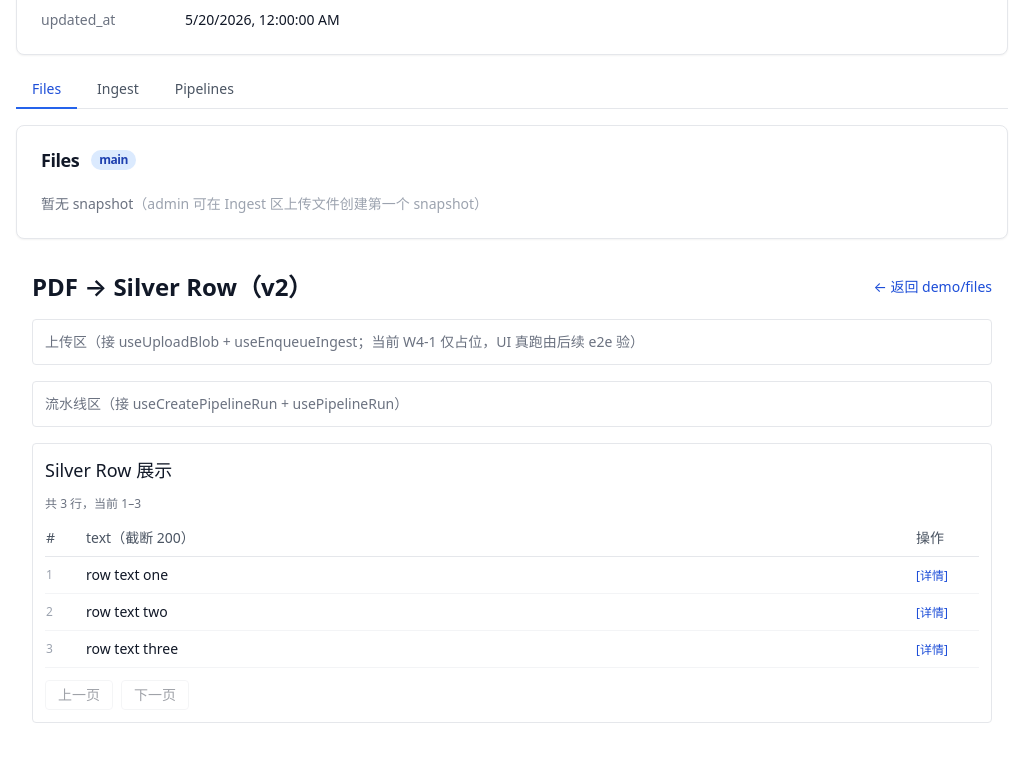
/repos/$owner/$name/pdf-mineru › clicking detail button expands row JSON
The width and height of the screenshot is (1024, 763).
(page scrolled)
Check: the text "row text one" is shown, box [85,556,915,594]
Click the button "[详情]" in the row of "row text one" at [932, 576], box [916,568,948,584]
(page scrolled)
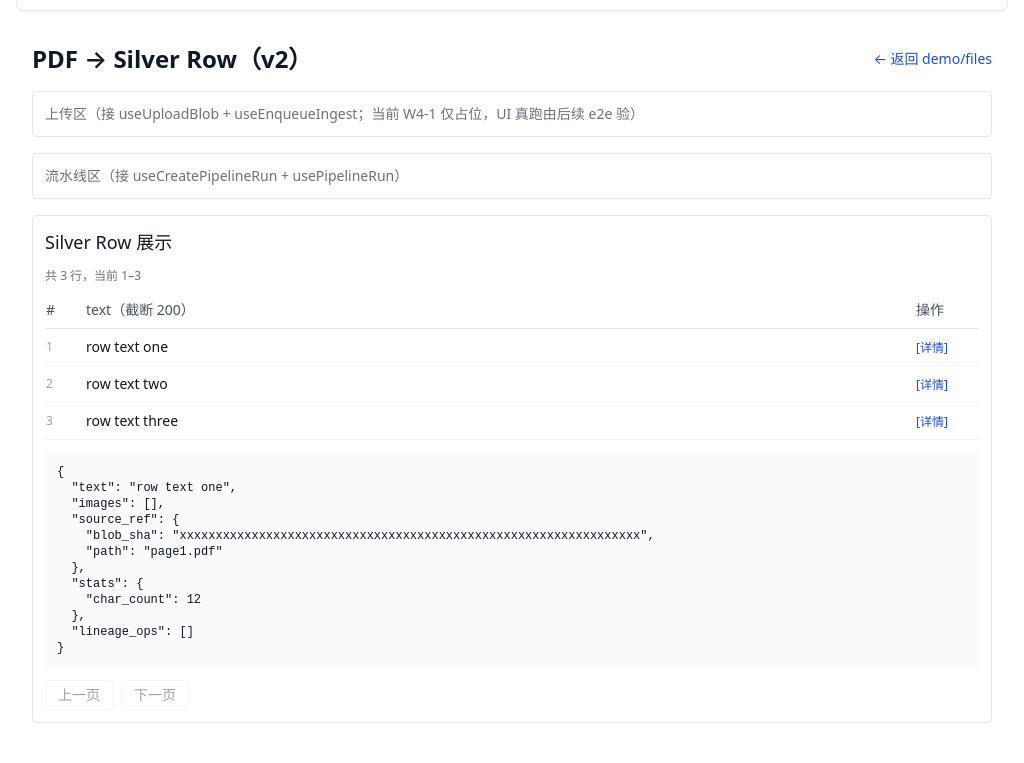
Check: the text with test id "row-detail-0" is shown, box [45,452,979,668]
Check: the text with test id "row-detail-0" shows "source_ref", box [57,465,655,655]
